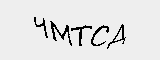Д: (112, 24, 129, 46)
М: (51, 21, 72, 44)
С: (91, 24, 108, 46)
Т: (69, 20, 92, 46)
Ч: (33, 16, 48, 38)
